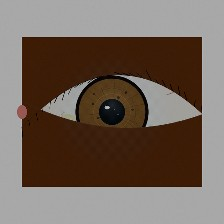pinguecula_lesion: (51, 106, 84, 132)
